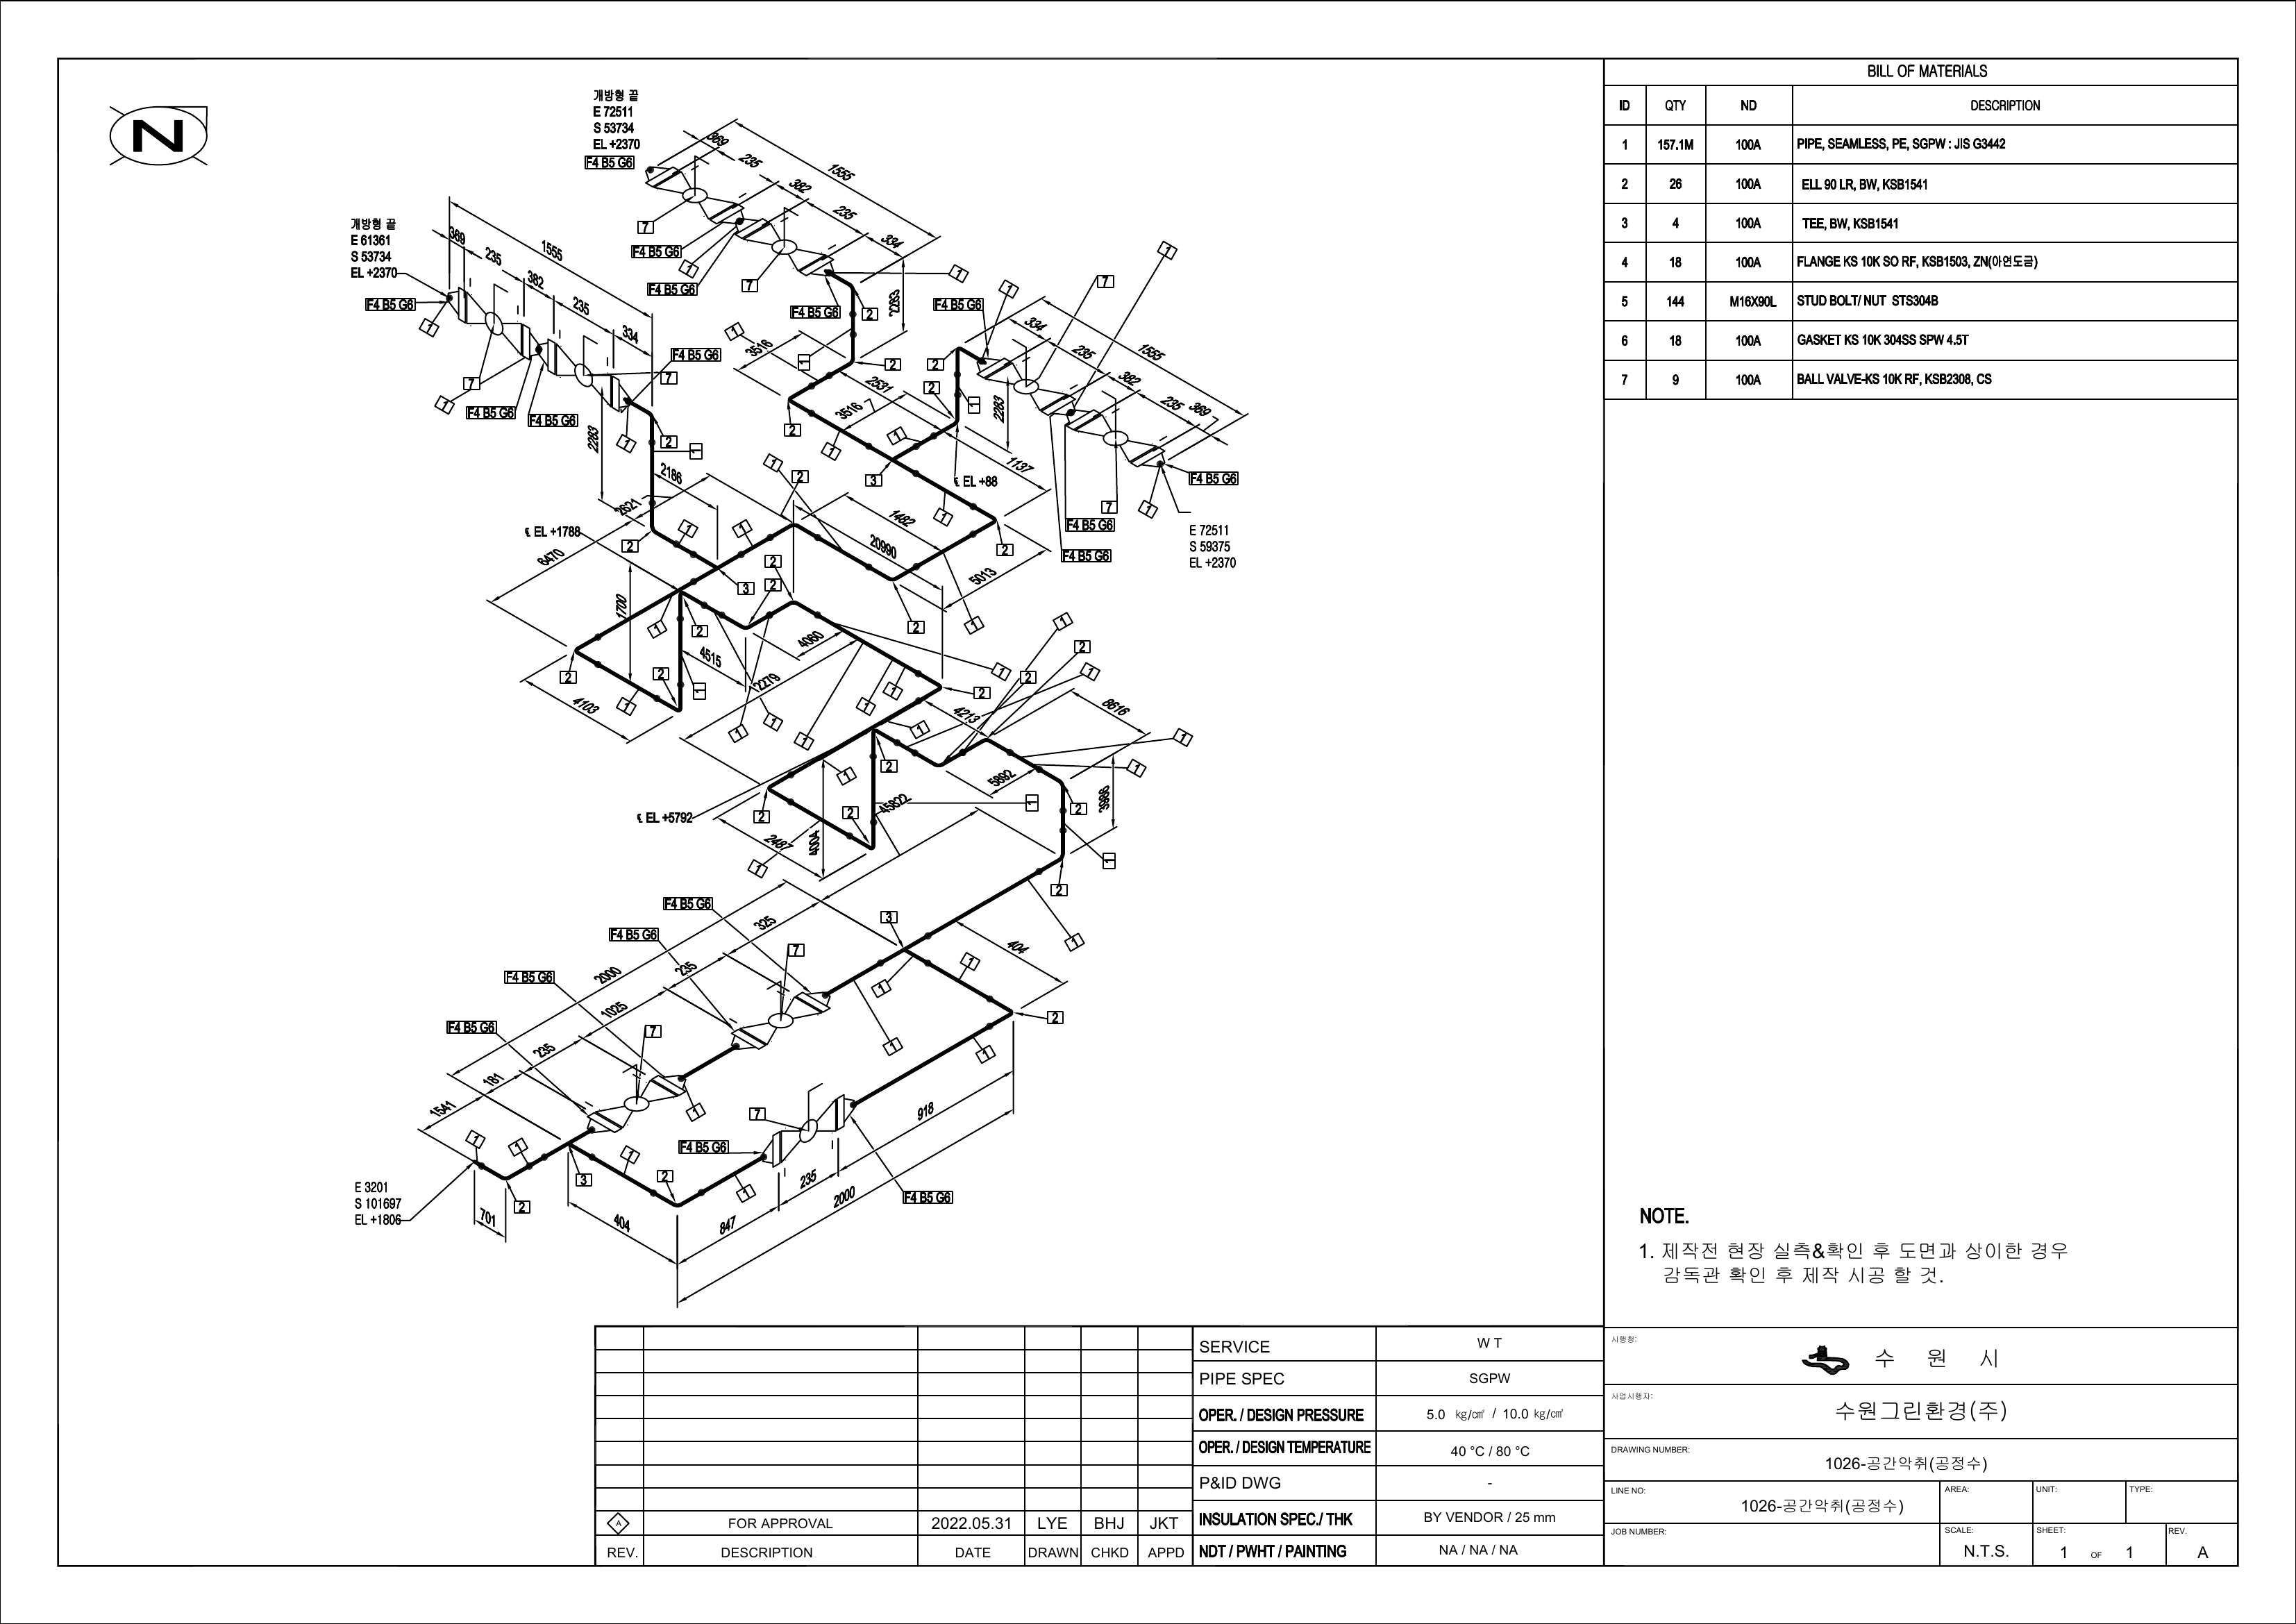table: (1599, 51, 2243, 410)
